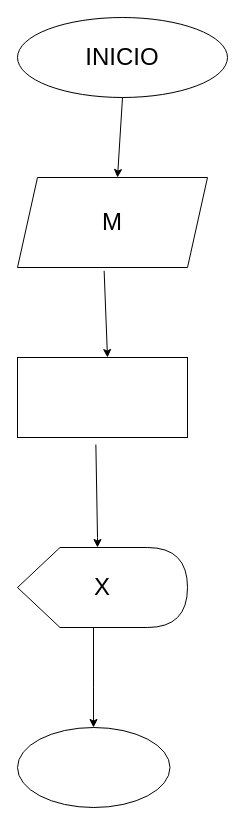
The diagram is 245 pixels wide and 825 high, and some of its shapes have lost their labels. Each missing label, with the centre of its shape:
"FIM" goes at point 93,767.
"X= M * 4" goes at point 102,397.
